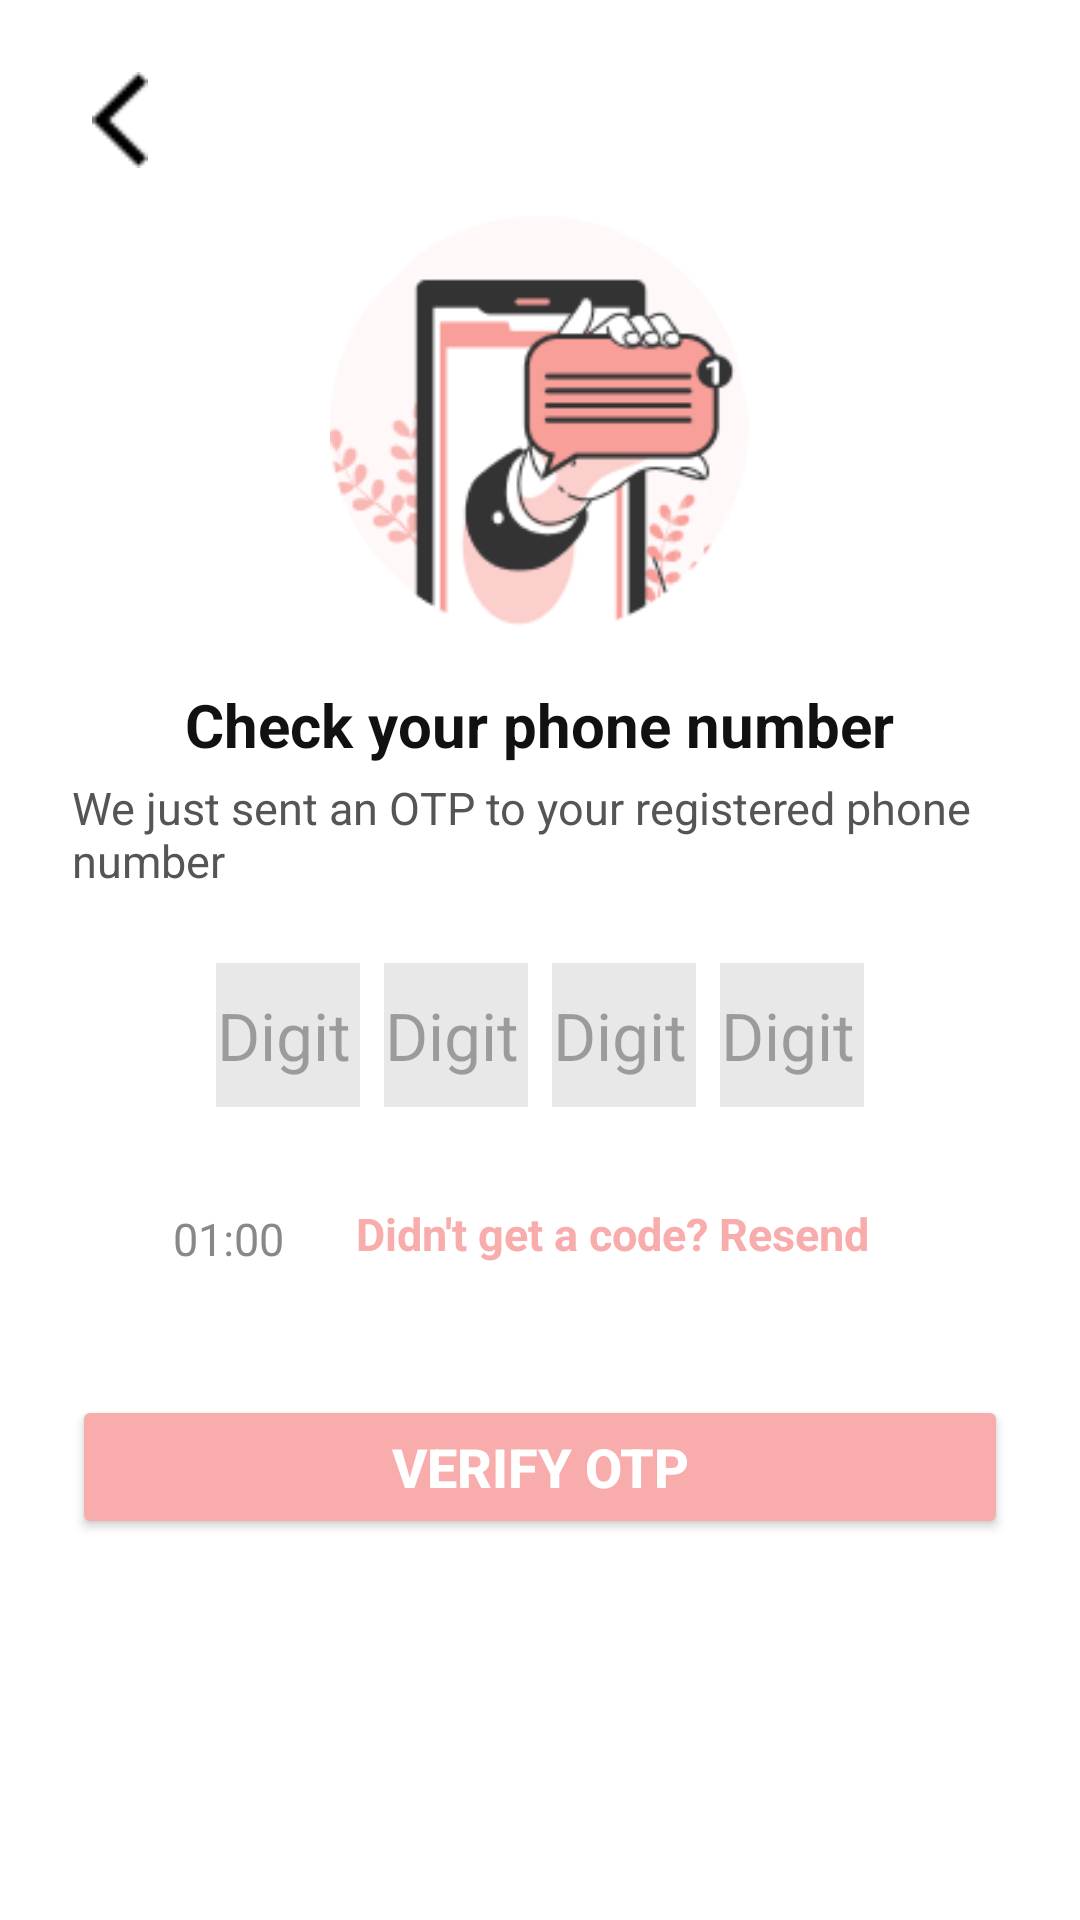

Screen size 1080px x 1920px. Icon name, then its box in pixels as (x1, y1, x2, y2):
Back: (92, 72, 148, 168)
